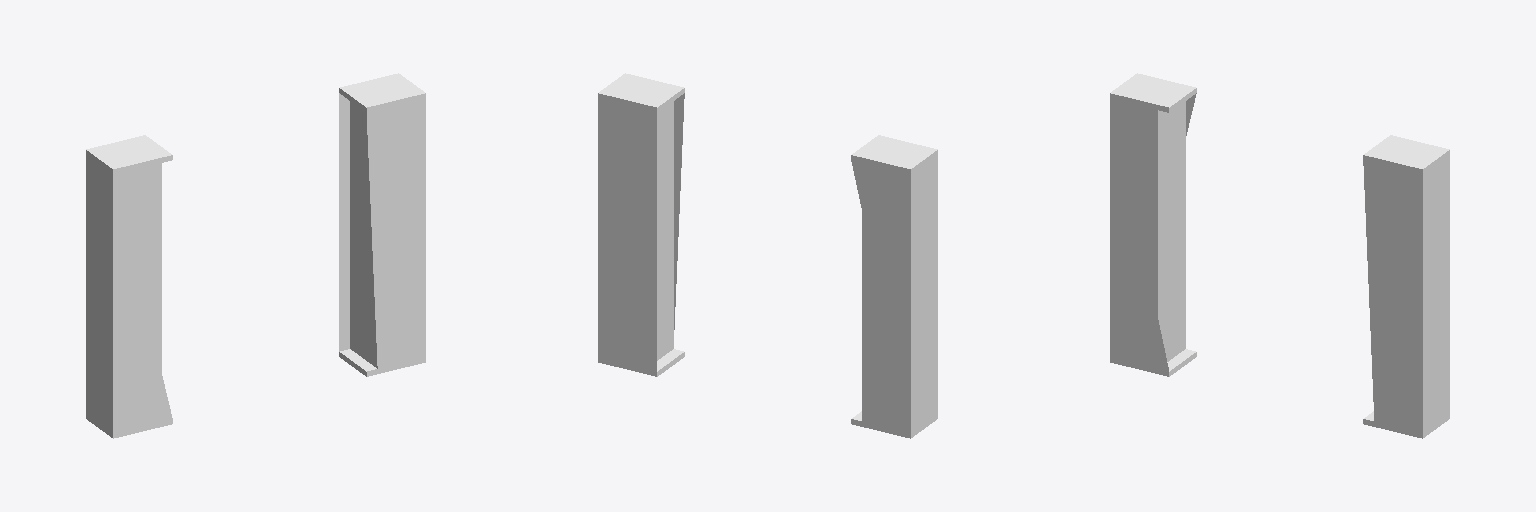
File: brackets.obj
The picture shows the model from 3 angles: view 1: azimuth 30°, elevation 25°; view 2: azimuth 150°, elevation 25°; view 3: azimuth 330°, elevation 25°; orthographic projection.
Size of the model in its own units: 35.73 by 29.38 by 5.4.